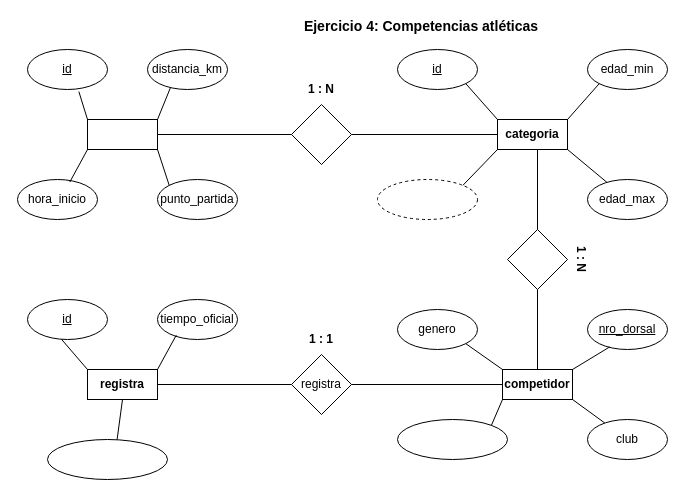
The diagram is 685 pixels wide and 497 high, and some of its shapes have lost their labels. Here are the shapes that lost their labels. From the top down, the centre of each, then its label:
At [122,134]: "carrera".
At [321,134]: "tiene".
At [427,199]: "nombre_categoria".
At [537,259]: "participa".
At [107,459]: "estado_participacion".
At [452,439]: "fecha_nacimiento".
